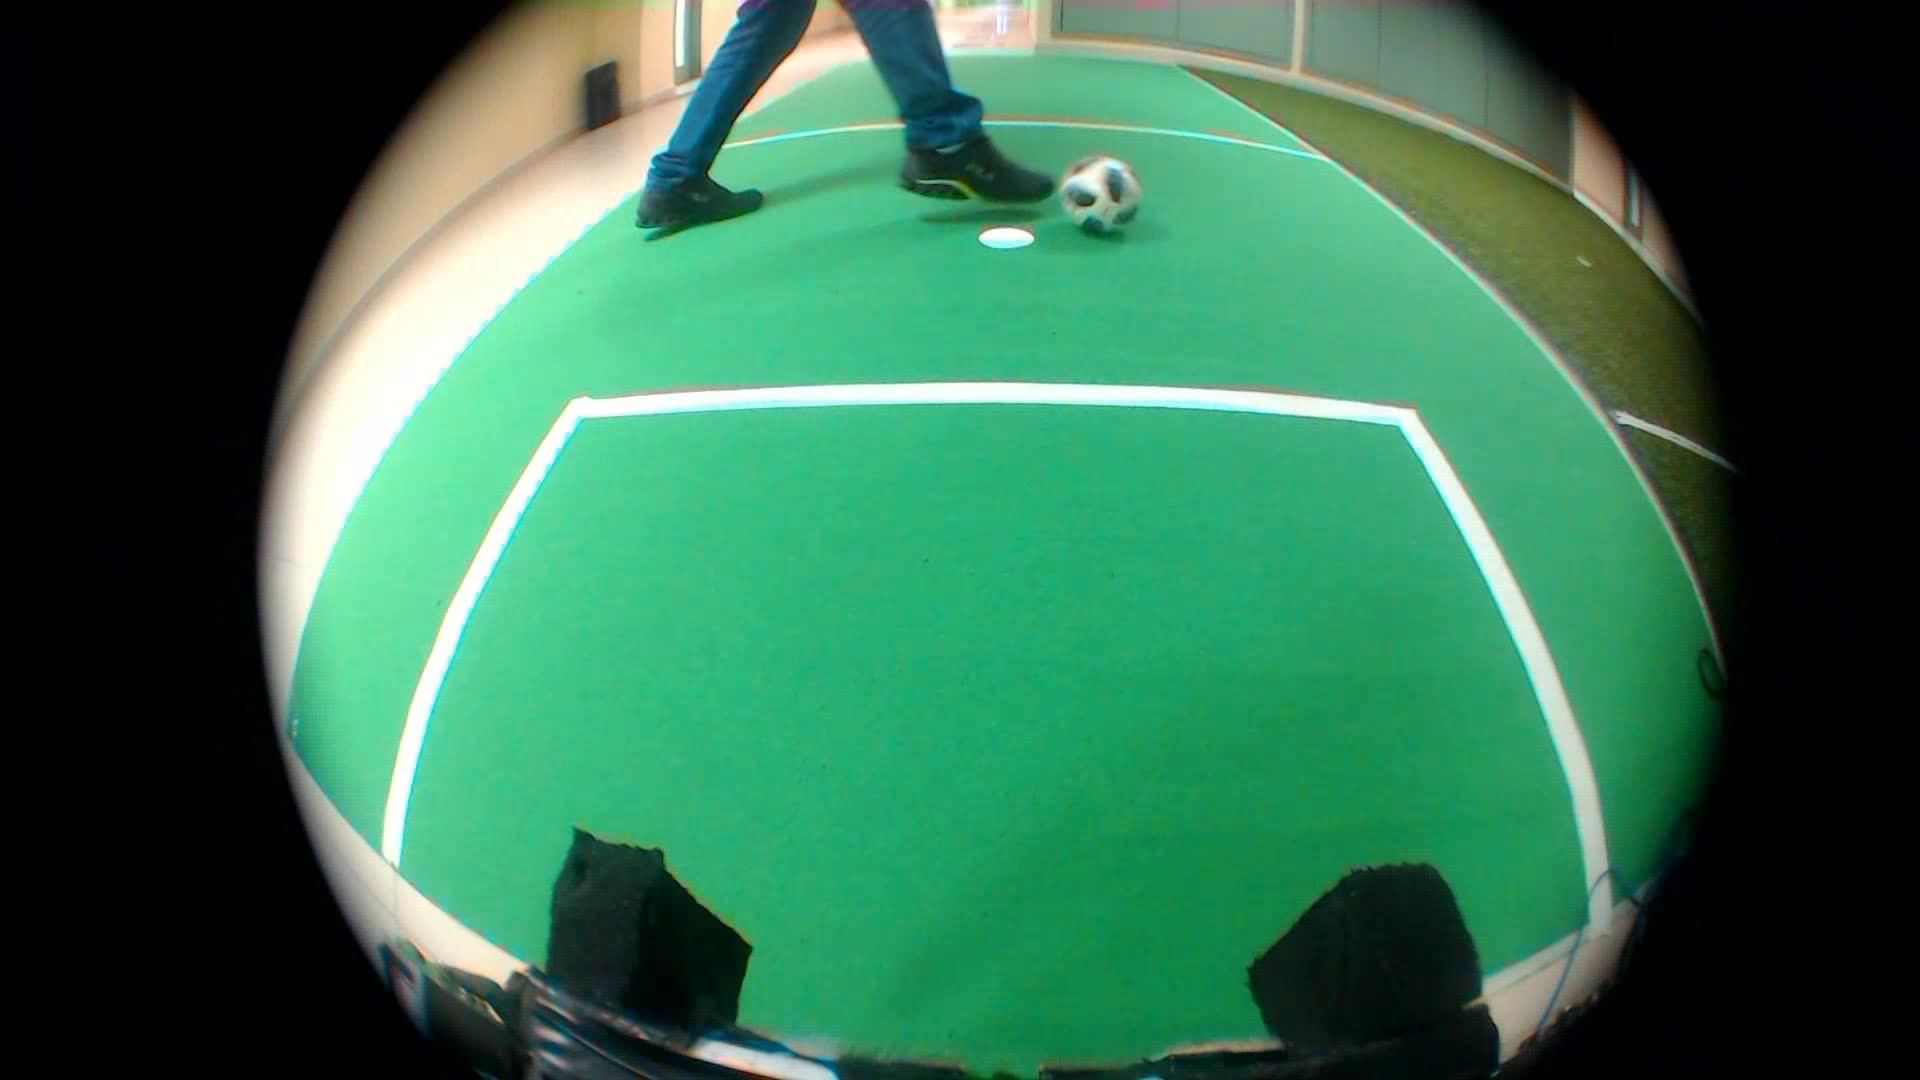ball: (1052, 152, 1149, 244)
